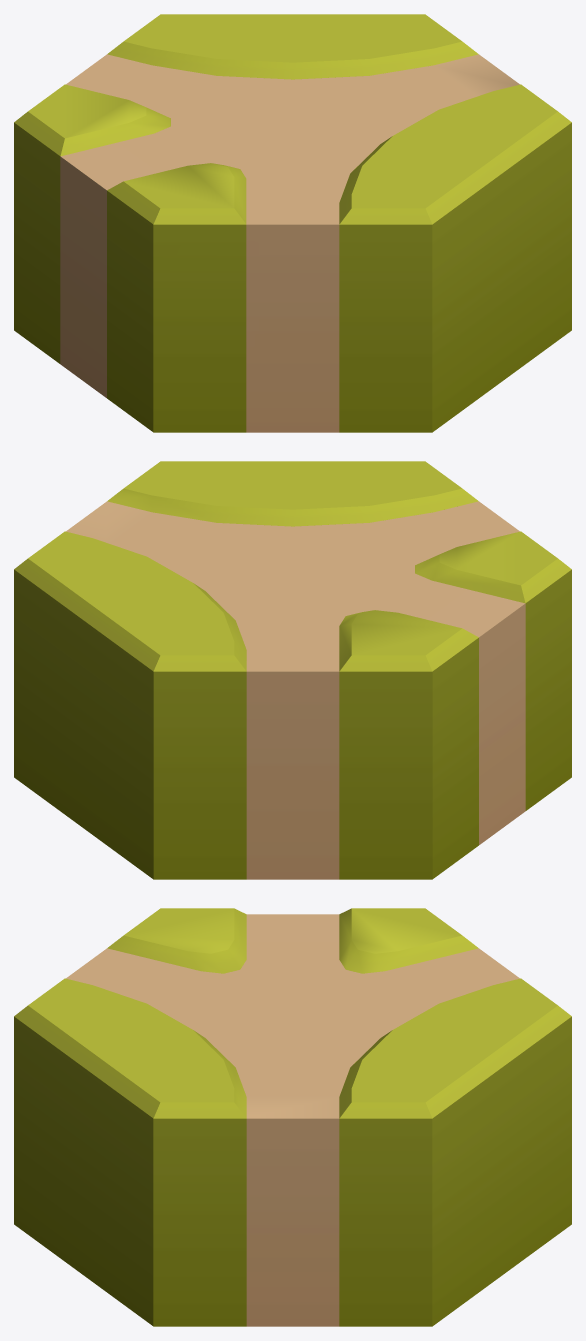
Rendered from kaykit-medieval-hexagon-pack-hex-road-h.glb.
3 views of the same model, one above another, from view 1: azimuth 30°, elevation 25°; view 2: azimuth 150°, elevation 25°; view 3: azimuth 270°, elevation 25° (orthographic).
Visible parts, largest first — view 1: hex_road_H; view 2: hex_road_H; view 3: hex_road_H.
Boxes of the visible parts, x1,y1,x2,y2 form: hex_road_H: (14, 14, 571, 432); hex_road_H: (14, 461, 571, 879); hex_road_H: (14, 908, 571, 1326).
Size of the model in its own units: 2 by 1 by 2.31.
1 material, 1 textured.
